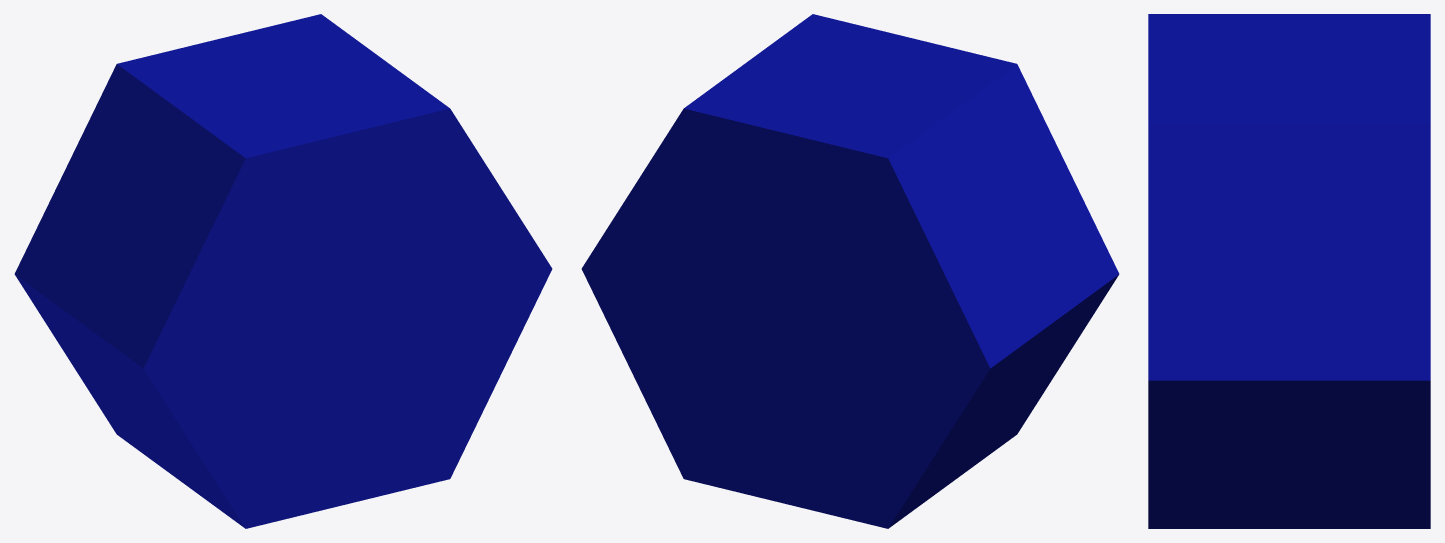
The model's file is WaterBottleCap.obj.
3 renders of one model, left to right at view 1: azimuth 30°, elevation 25°; view 2: azimuth 150°, elevation 25°; view 3: azimuth 270°, elevation 25°, orthographic. The views are drawn at different scales.
Parts seen in each view (by area): view 1: sodaBottle; view 2: sodaBottle; view 3: sodaBottle.
Boxes of the visible parts, left/top/right/bottom form: sodaBottle: left=14, top=14, right=552, bottom=528; sodaBottle: left=581, top=14, right=1119, bottom=528; sodaBottle: left=1148, top=14, right=1430, bottom=528.
Bounding box in the file's own units: 0.0366 × 0.0317 × 0.02.
